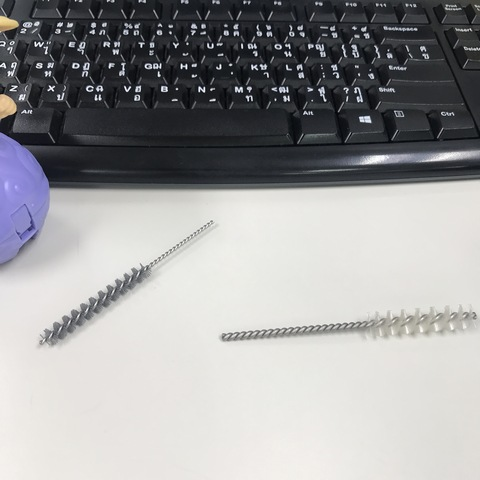Twist Brush-A: (39, 219, 219, 344)
Twist Brush-B: (219, 303, 480, 347)
